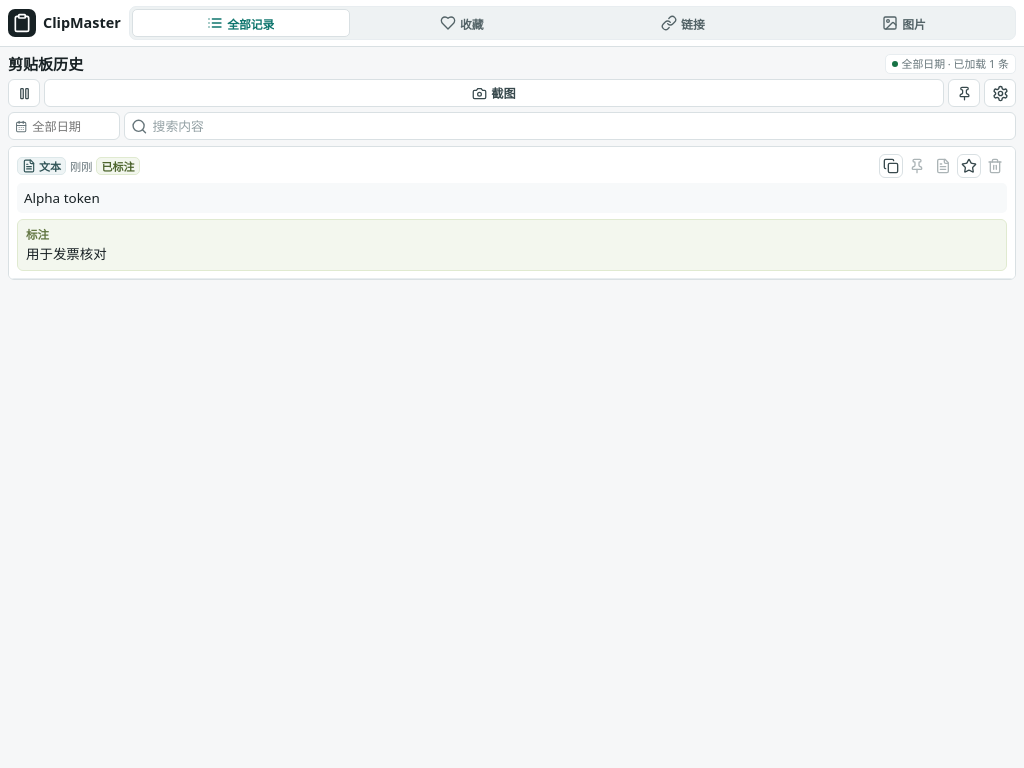
App UI › keeps the confirmation dialog open when protected record deletion fails
Check: the button "Alpha token" is shown, box [17,183,1007,213]
Click the button named "删除 Alpha token": (995, 166) [983,154,1007,178]
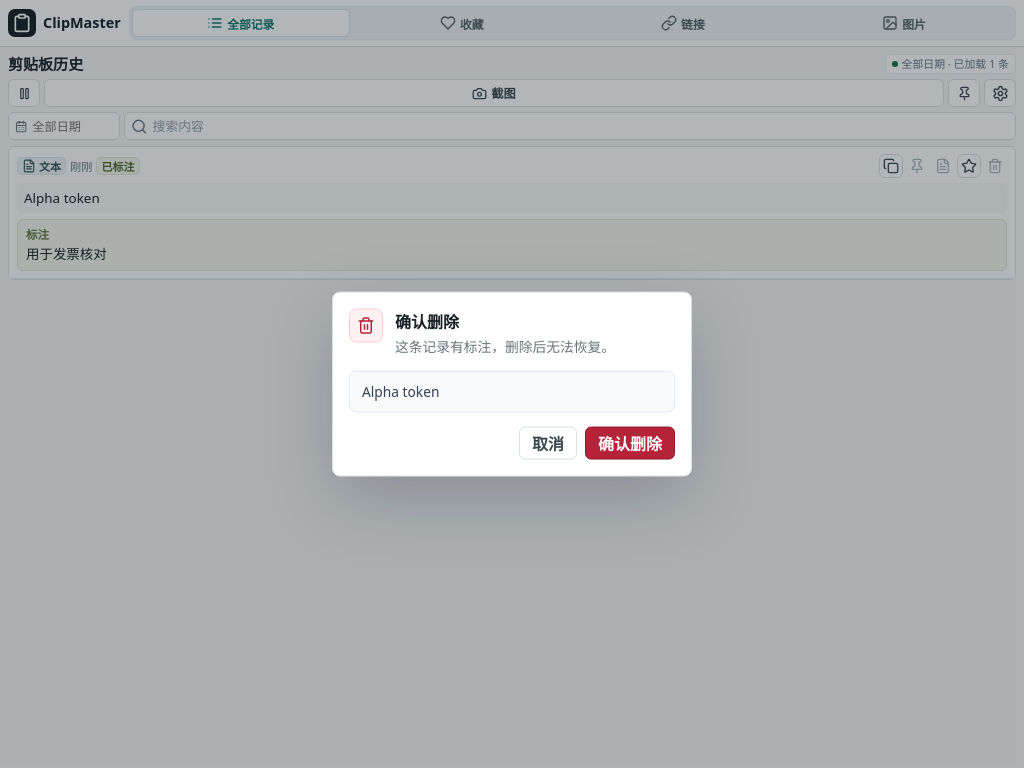
Click the button "确认删除": (630, 443) [585,426,675,460]
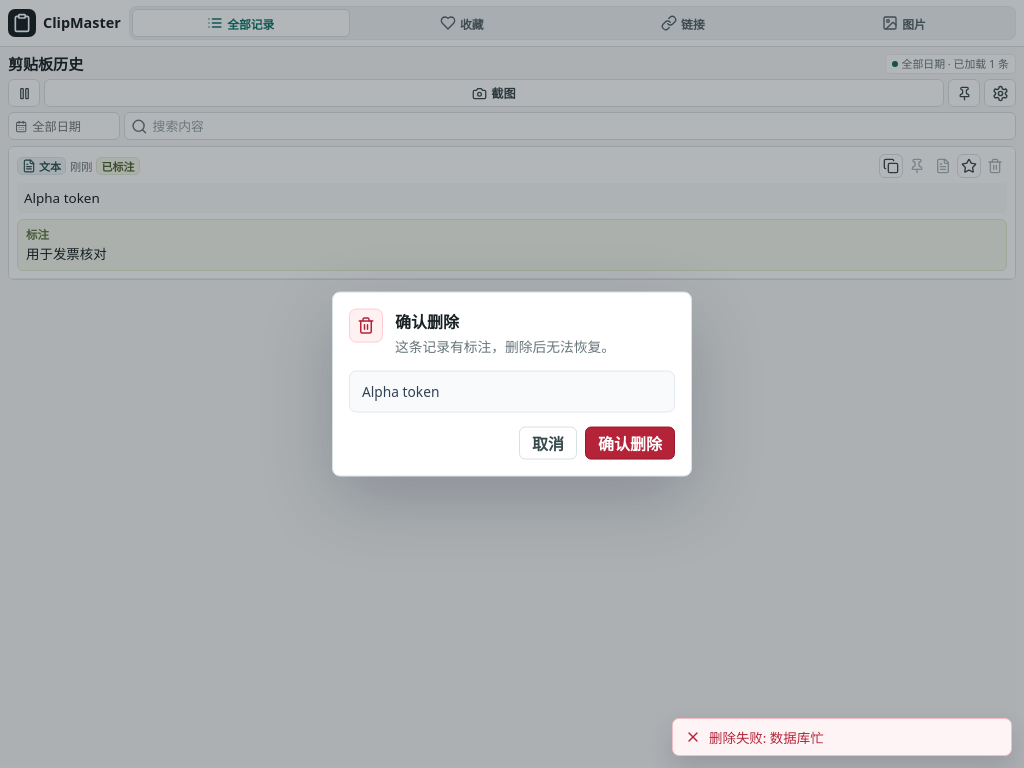
Check: the dialog "确认删除" is shown, box [332,292,692,476]
Check: the message reads "删除失败: 数据库忙", box [709,729,824,747]
